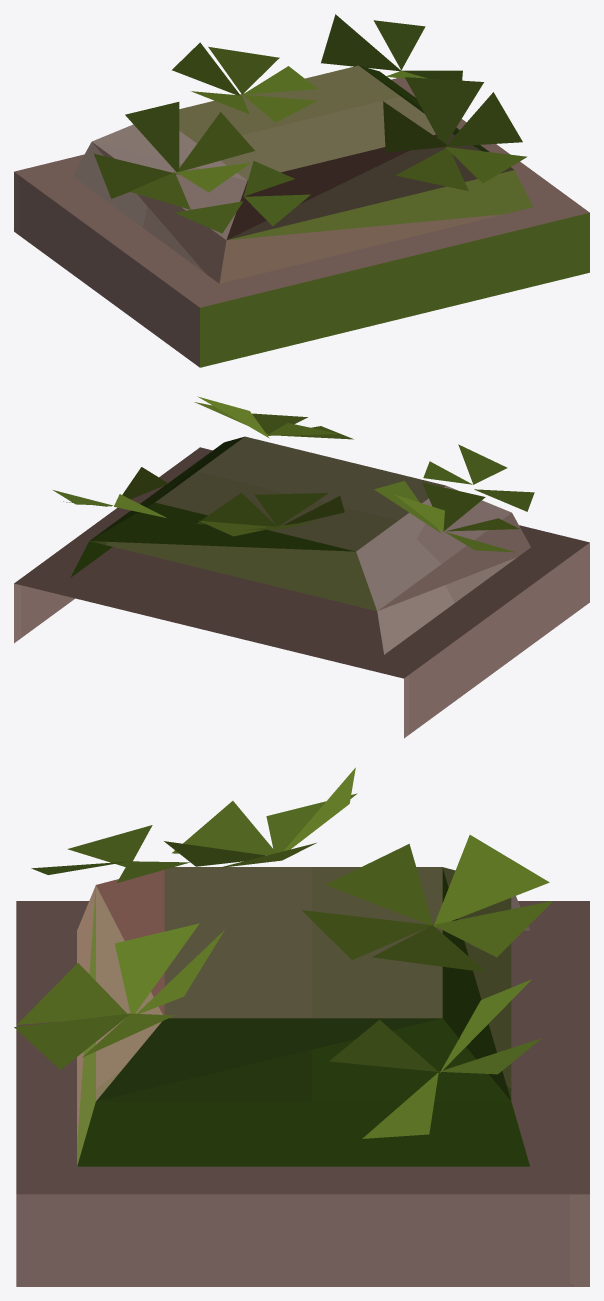
File: city-decor05.fbx
The picture shows the model from 3 angles, top to bottom: view 1: azimuth 30°, elevation 25°; view 2: azimuth 150°, elevation 25°; view 3: azimuth 270°, elevation 25°; orthographic projection. The views are drawn at different scales.
Parts seen in each view (by area): view 1: city-decor05; view 2: city-decor05; view 3: city-decor05.
Part boxes in pixels (left/top/right/bottom): city-decor05: left=14, top=14, right=589, bottom=367; city-decor05: left=14, top=396, right=589, bottom=738; city-decor05: left=14, top=767, right=589, bottom=1286.
Bounding box in the file's own units: 0.8158 × 0.3366 × 0.6526.
Materials: 1 (1 with a texture image).
